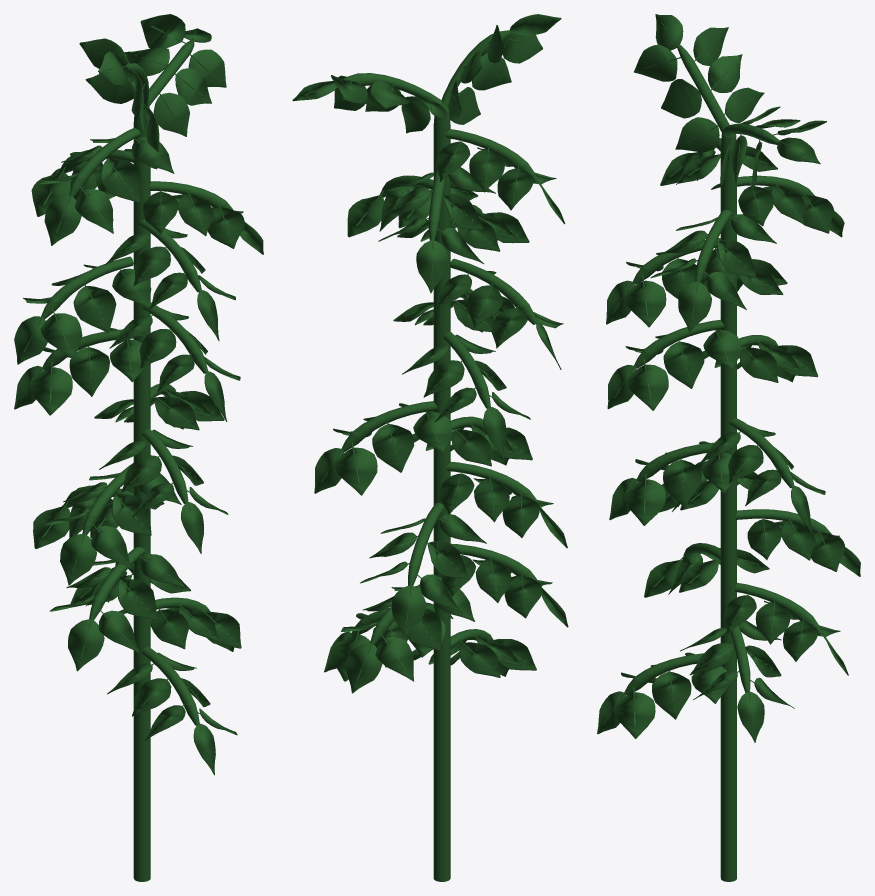
The model's file is beanstalk-no-beans.fbx.
3 views of the same model, side by side, from view 1: azimuth 30°, elevation 25°; view 2: azimuth 150°, elevation 25°; view 3: azimuth 270°, elevation 25° (orthographic). The views are drawn at different scales.
Visible parts, largest first — view 1: bean stalk; view 2: bean stalk; view 3: bean stalk.
Boxes of the visible parts, box(x1,y1,x2,y2) form: bean stalk: box(14, 14, 263, 881); bean stalk: box(292, 14, 568, 881); bean stalk: box(597, 14, 860, 881).
Size of the model in its own units: 411 by 1488 by 428.
